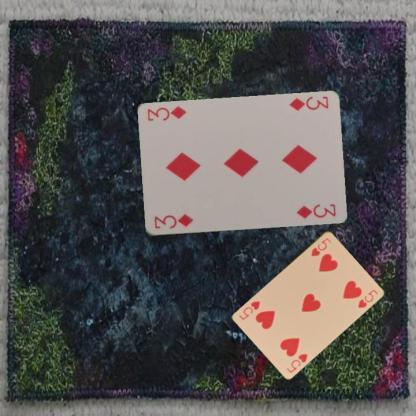3d: (151, 211, 195, 230), (286, 94, 330, 112)
5h: (284, 351, 310, 374), (308, 235, 332, 258)
